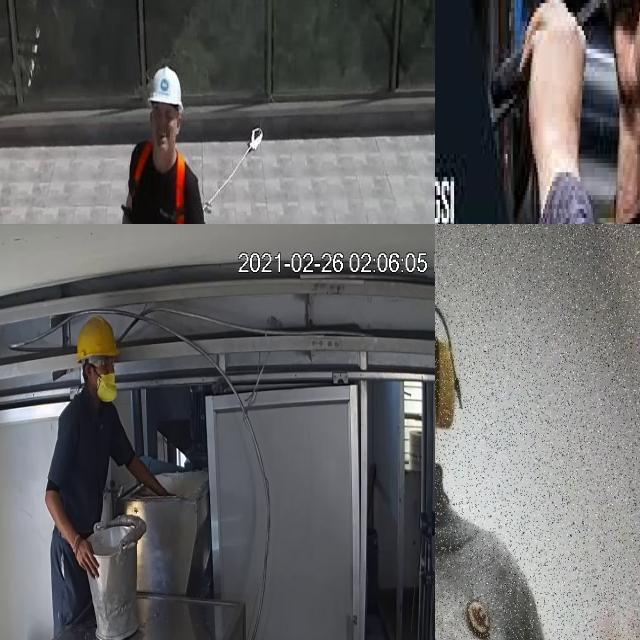Ear-protection: (435, 226, 467, 486)
Harness: (205, 128, 264, 214), (175, 152, 188, 224)
No_Ear-Protection: (84, 361, 95, 382)
face_mask: (97, 373, 117, 402)
glasses: (84, 355, 115, 367)
hand_noglove: (76, 540, 98, 577)
head_helmet: (77, 315, 120, 361)
